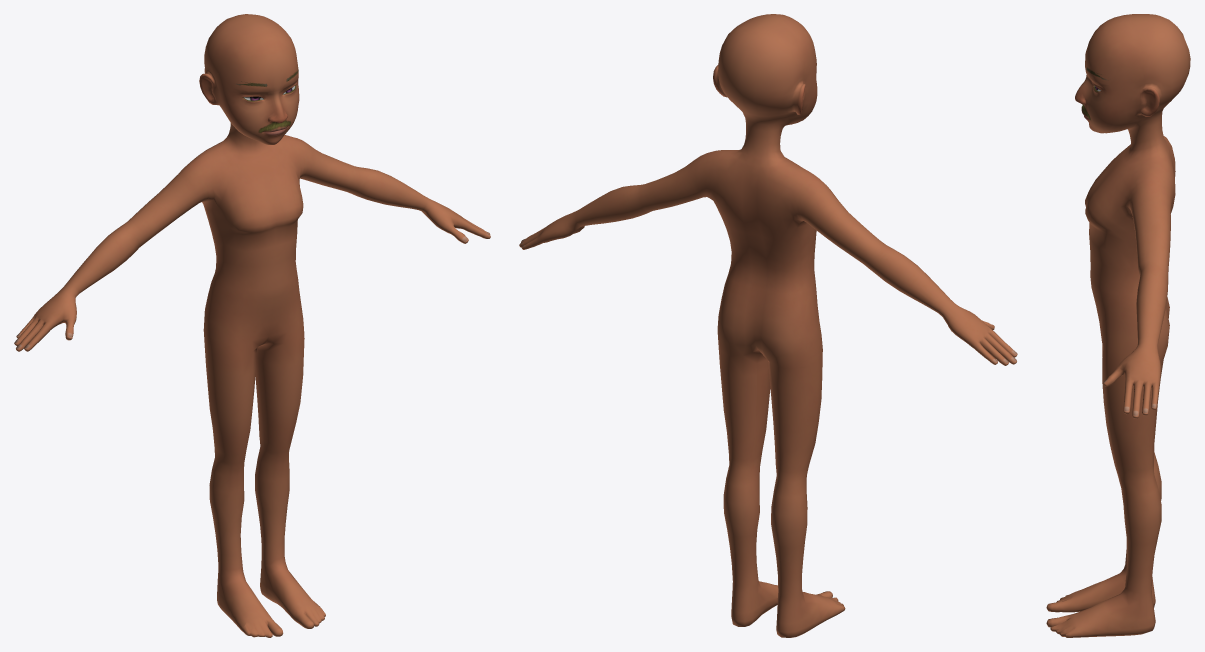
Rendered from frame_0023.glb.
The picture shows the model from 3 angles, left to right: view 1: azimuth 30°, elevation 25°; view 2: azimuth 150°, elevation 25°; view 3: azimuth 270°, elevation 25°; orthographic projection. The views are drawn at different scales.
Parts seen in each view (by area): view 1: frame_0023_head_geo; view 2: frame_0023_head_geo; view 3: frame_0023_head_geo.
Part boxes in pixels (x1=…): frame_0023_head_geo: x1=14, y1=14, x2=490, y2=637; frame_0023_head_geo: x1=519, y1=14, x2=1017, y2=637; frame_0023_head_geo: x1=1046, y1=14, x2=1190, y2=637.
Bounding box in the file's own units: 1.28 × 1.5 × 0.3253.
3 materials, 3 textured.
